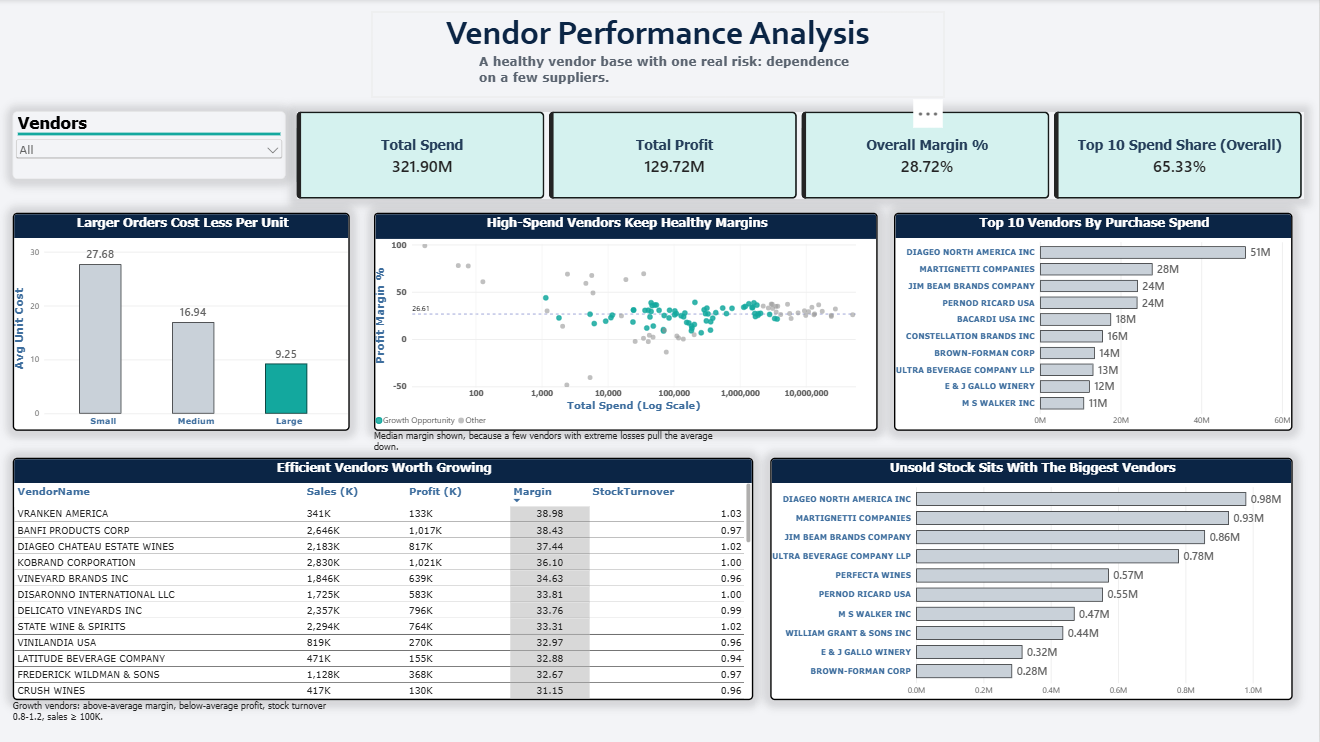

Layout of this report page (visuals, bound fields, positions):
{"tool":"powerbi","page":{"name":"Page 1","canvas":[2300,1300],"ordinal":0},"visuals":[{"type":"cardVisual","fields":{"Data":["Sum(VendorDashboard.Spend)","Sum(VendorDashboard.Profit)","VendorDashboard.Overall Margin %","OrderSizeDashboard.Top 10 Spend Share"]},"box":[517.5,195,1755,152.5],"z":0},{"type":"clusteredBarChart","title":"Top 10 Vendors By Purchase Spend","fields":{"Category":["VendorDashboard.VendorName"],"Y":["Sum(VendorDashboard.Spend)"]},"box":[1560,372.5,694,380],"z":1000},{"type":"scatterChart","title":"High-Spend Vendors Keep Healthy Margins","fields":{"Category":["VendorDashboard.VendorName"],"Series":["VendorDashboard.VendorGroup"],"X":["VendorDashboard.Spend"],"Y":["VendorDashboard.Margin"]},"box":[652.5,372.5,877.5,380],"z":2000},{"type":"textbox","box":[652.5,752.5,620,300],"z":3000},{"type":"columnChart","title":"Larger Orders Cost Less Per Unit","fields":{"Category":["OrderSizeDashboard.OrderSizeGroup"],"Y":["OrderSizeDashboard.Avg Unit Cost"]},"box":[25,372.5,587.5,380],"z":4000},{"type":"tableEx","title":"Efficient Vendors Worth Growing","fields":{"Values":["VendorDashboard.VendorName","VendorDashboard.Sales","VendorDashboard.Profit","VendorDashboard.Margin","VendorDashboard.StockTurnover"]},"box":[25,800,1290,422.5],"z":5000},{"type":"textbox","box":[25,1222.5,567.5,55],"z":6000},{"type":"slicer","fields":{"Values":["VendorDashboard.VendorName"]},"box":[25,195,475,117.5],"z":7000},{"type":"textbox","box":[650,22.5,997.5,150],"z":8000},{"type":"textbox","box":[836,96,667.5,150],"z":8001},{"type":"clusteredBarChart","title":"Unsold Stock Sits With The Biggest Vendors","fields":{"Category":["VendorDashboard.VendorName"],"Y":["Sum(VendorDashboard.UnsoldInventoryValue)"]},"box":[1345,800,910,422.5],"z":8002}]}

Visuals, with their boxes in screenshot pixels (x1, y1, x2, y2), scaled from the page's 2300x1300 canvas onto the 1320x742 screenshot:
cardVisual - Sum(VendorDashboard.Spend) x Sum(VendorDashboard.Profit): rect(297, 111, 1304, 198)
"Top 10 Vendors By Purchase Spend" clusteredBarChart: rect(895, 213, 1294, 430)
"High-Spend Vendors Keep Healthy Margins" scatterChart: rect(374, 213, 878, 430)
textbox: rect(374, 430, 730, 601)
"Larger Orders Cost Less Per Unit" columnChart: rect(14, 213, 352, 430)
"Efficient Vendors Worth Growing" tableEx: rect(14, 457, 755, 698)
textbox: rect(14, 698, 340, 729)
slicer - VendorDashboard.VendorName: rect(14, 111, 287, 178)
textbox: rect(373, 13, 946, 98)
textbox: rect(480, 55, 863, 140)
"Unsold Stock Sits With The Biggest Vendors" clusteredBarChart: rect(772, 457, 1294, 698)
